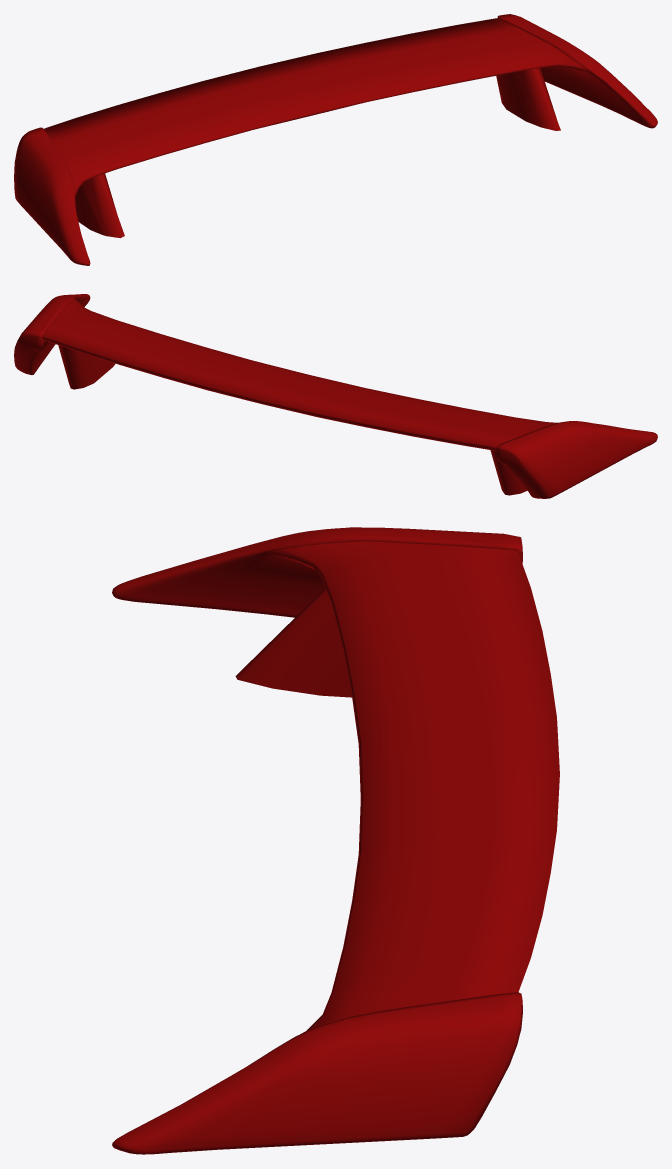
The model's file is spoiler_oemkouki.glb.
3 renders of one model, top to bottom at view 1: azimuth 30°, elevation 25°; view 2: azimuth 150°, elevation 25°; view 3: azimuth 270°, elevation 25°, orthographic. The views are drawn at different scales.
Parts seen in each view (by area): view 1: Spoiler; view 2: Spoiler; view 3: Spoiler.
Part boxes in pixels (bbox=[...]): Spoiler: bbox=[14, 14, 657, 265]; Spoiler: bbox=[14, 294, 657, 498]; Spoiler: bbox=[112, 527, 559, 1154].
Size of the model in its own units: 1.33 by 0.1458 by 0.4445.
